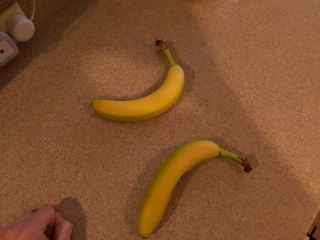banana: (136, 137, 255, 240), (89, 38, 187, 124)
